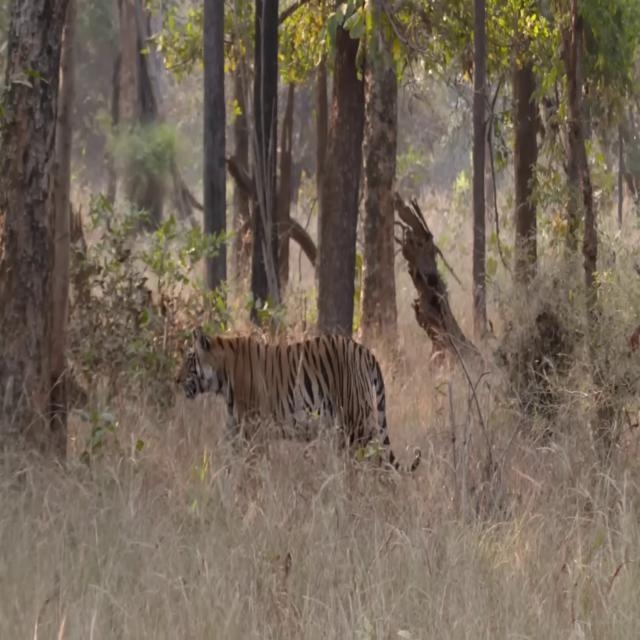tiger: (175, 325, 422, 489)
